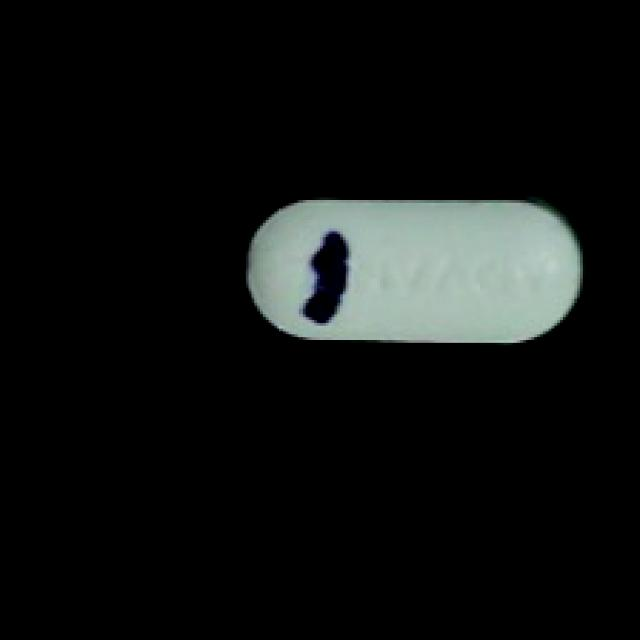defected: (226, 186, 586, 357)
